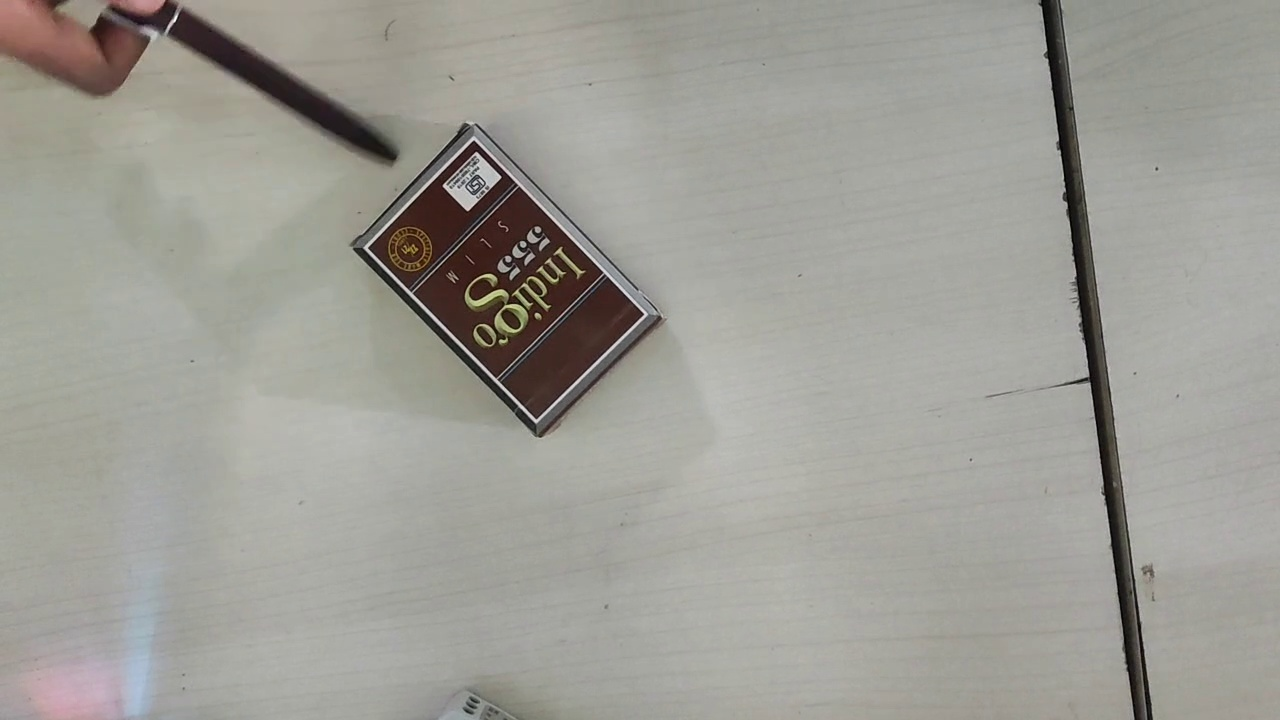BEX: (367, 138, 646, 423)
